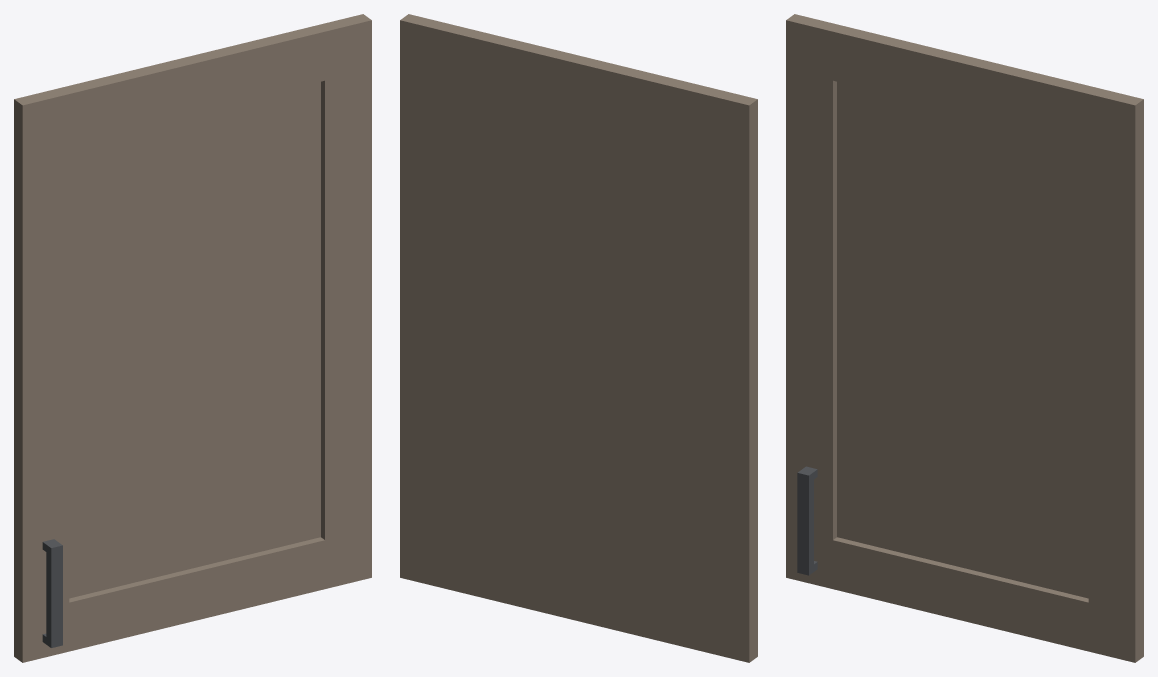
Rendered from Door2_C5_11.fbx.
3 views of the same model, side by side, from view 1: azimuth 30°, elevation 25°; view 2: azimuth 150°, elevation 25°; view 3: azimuth 330°, elevation 25° (orthographic).
Parts seen in each view (by area): view 1: Door2_C5_11; view 2: Door2_C5_11; view 3: Door2_C5_11.
Boxes of the visible parts, left/top/right/bottom form: Door2_C5_11: left=14, top=14, right=371, bottom=662; Door2_C5_11: left=400, top=14, right=757, bottom=662; Door2_C5_11: left=786, top=14, right=1143, bottom=662.
Size of the model in its own units: 59 by 90 by 5.03.
